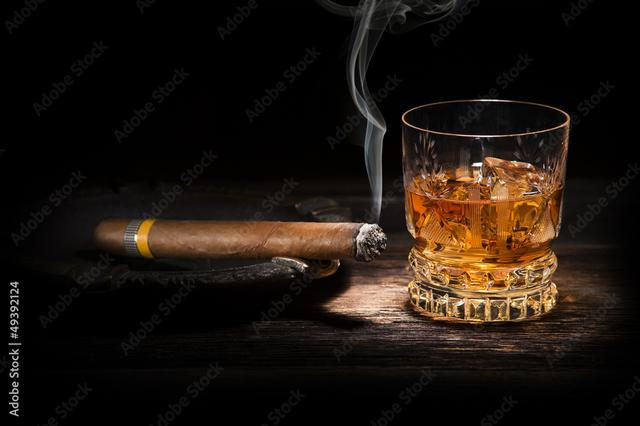Cigar: (92, 215, 388, 265)
